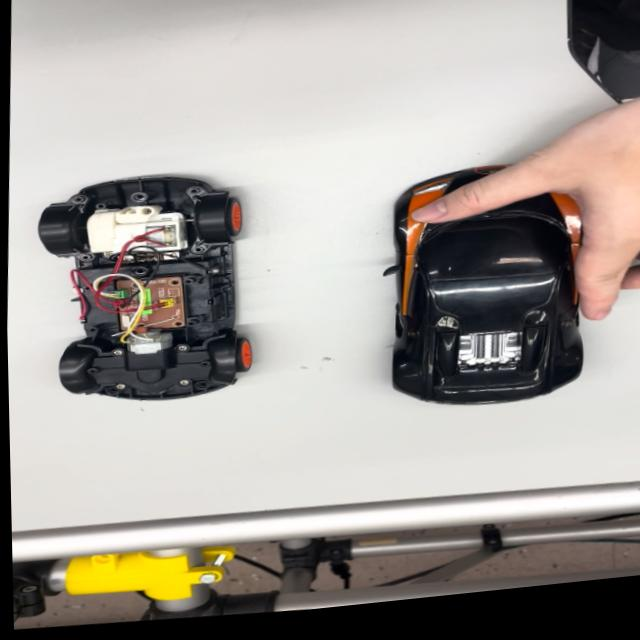Chassis: (38, 166, 252, 415)
vehicle_body: (374, 151, 593, 423)
